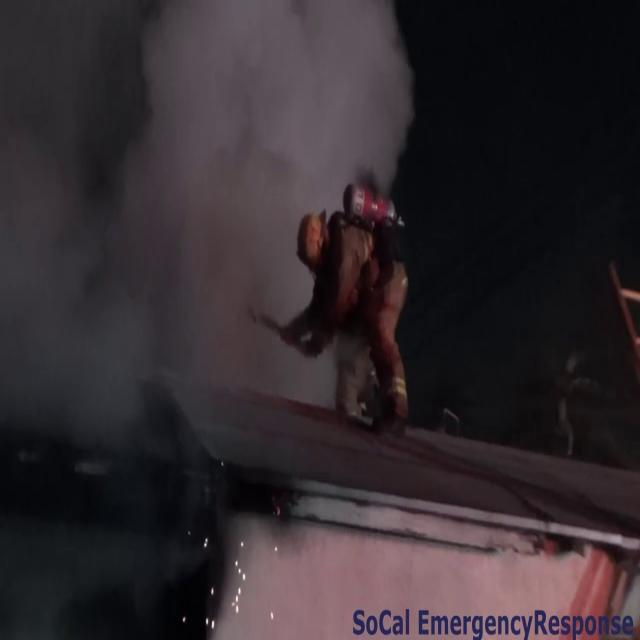Smoke: (0, 0, 424, 404)
